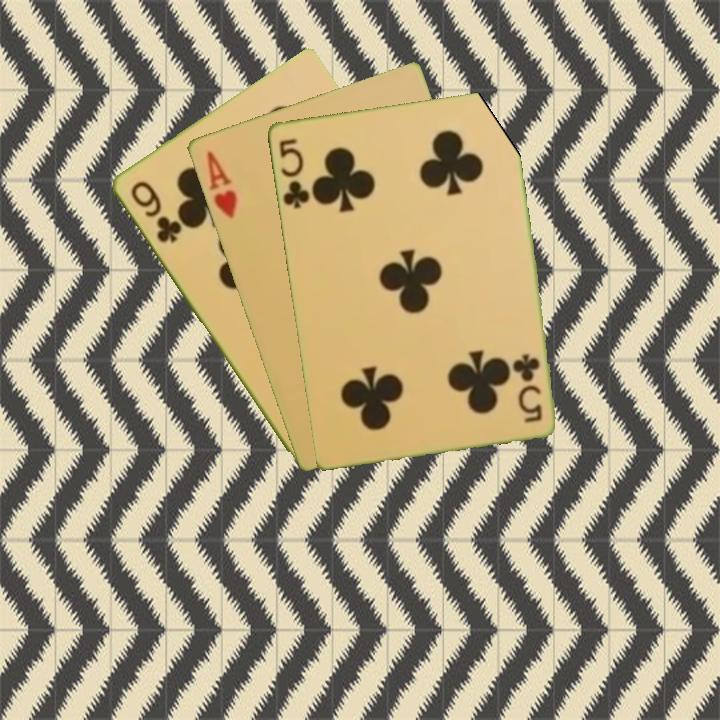5c: (275, 134, 312, 211), (511, 350, 545, 425)
9c: (126, 177, 183, 246)
Ah: (202, 147, 240, 222)
